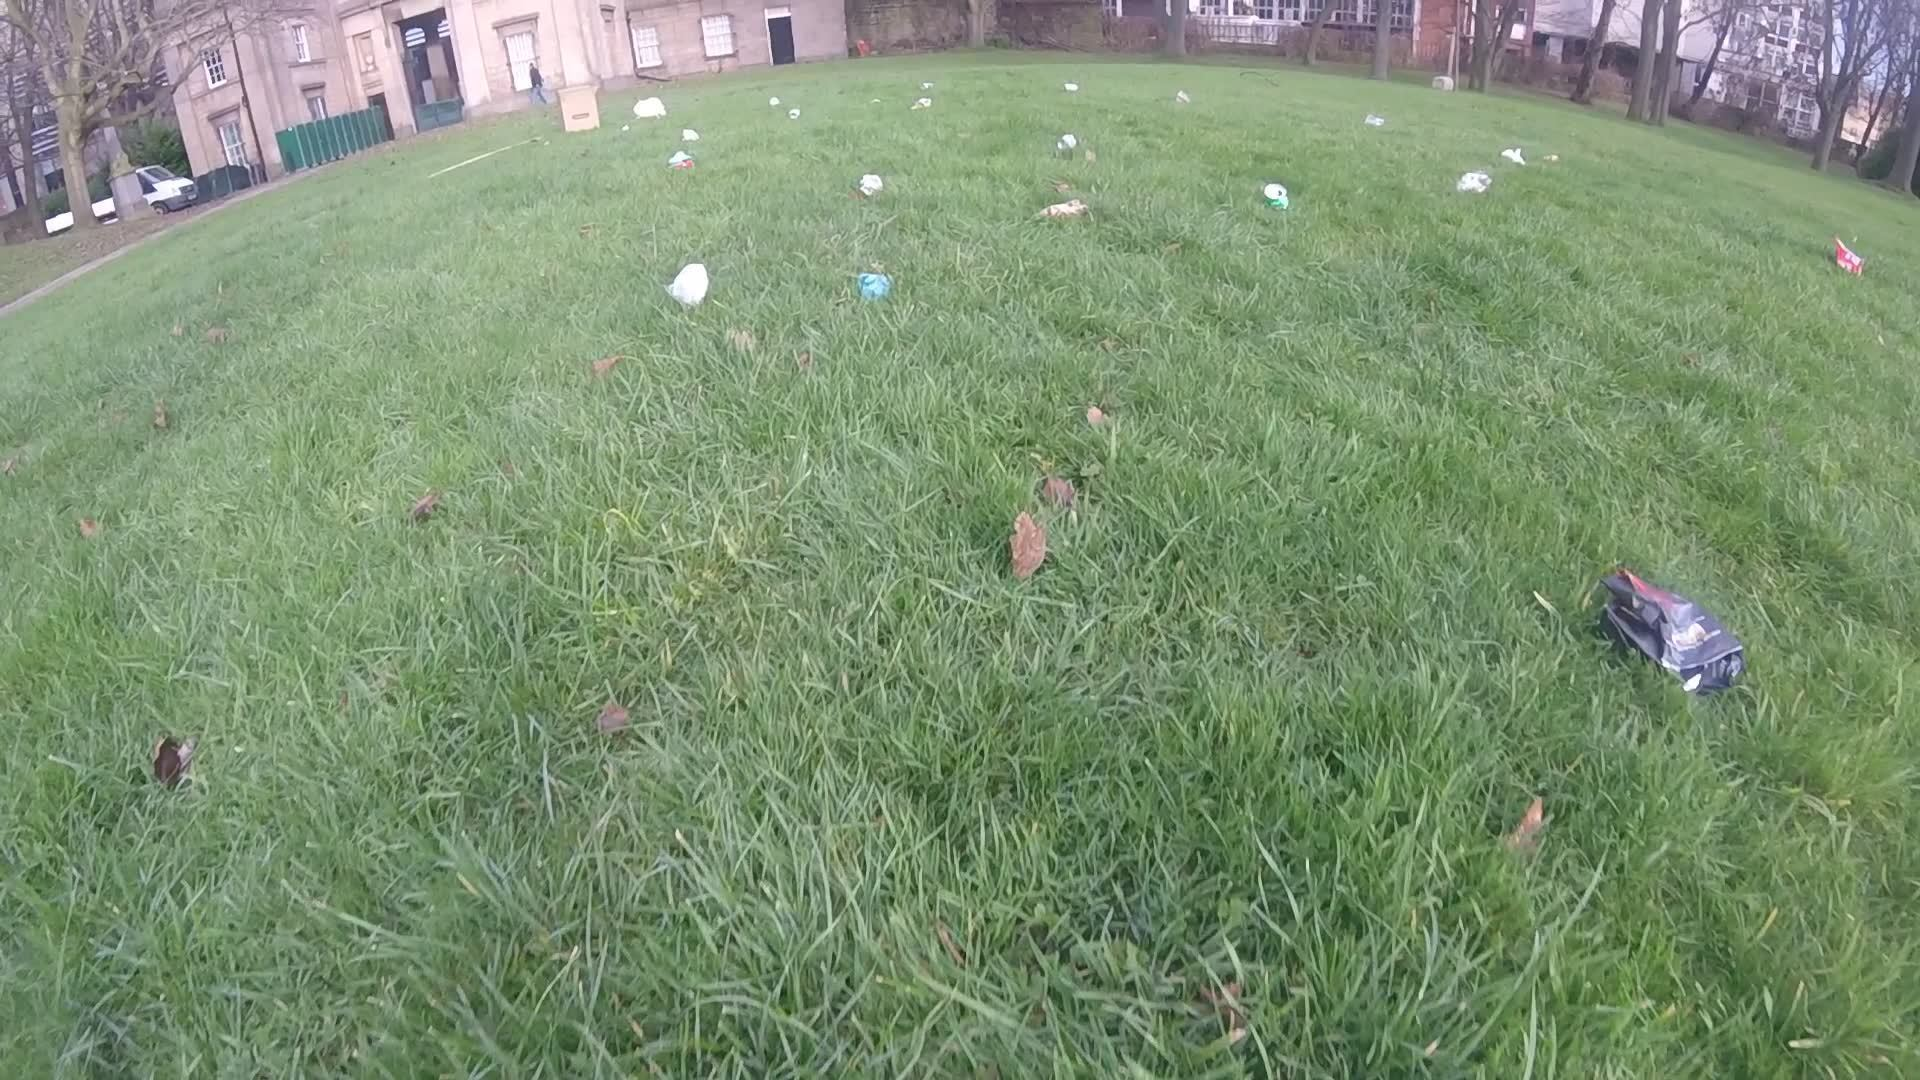litter: (1601, 570, 1742, 700), (558, 82, 601, 132), (669, 262, 711, 309), (1833, 236, 1865, 277), (855, 269, 891, 301), (1040, 199, 1087, 222), (1258, 179, 1290, 211), (1455, 171, 1493, 193), (633, 96, 665, 121), (1501, 145, 1526, 170), (861, 174, 884, 200), (670, 152, 695, 173), (1056, 135, 1077, 152), (1362, 115, 1386, 129), (683, 127, 700, 141), (911, 98, 931, 109), (786, 105, 799, 119), (1062, 83, 1077, 94), (1174, 92, 1188, 103), (767, 98, 782, 108), (1542, 153, 1559, 161), (923, 80, 932, 92), (620, 127, 632, 135)
